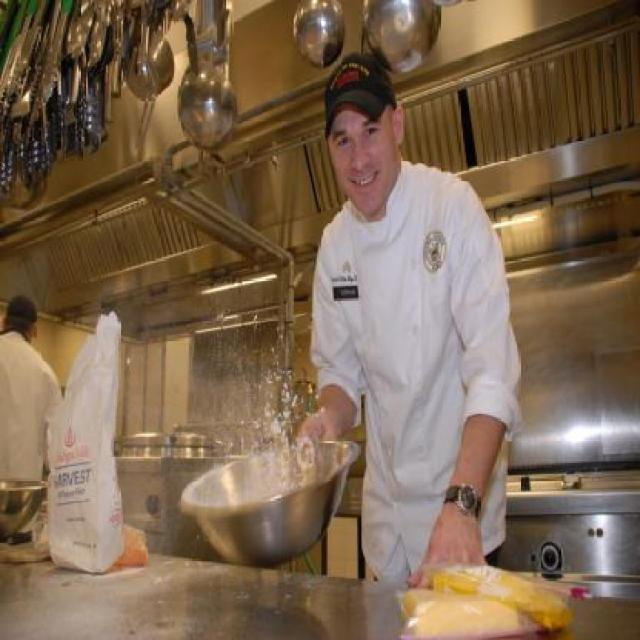plastic bag: (43, 303, 122, 569)
